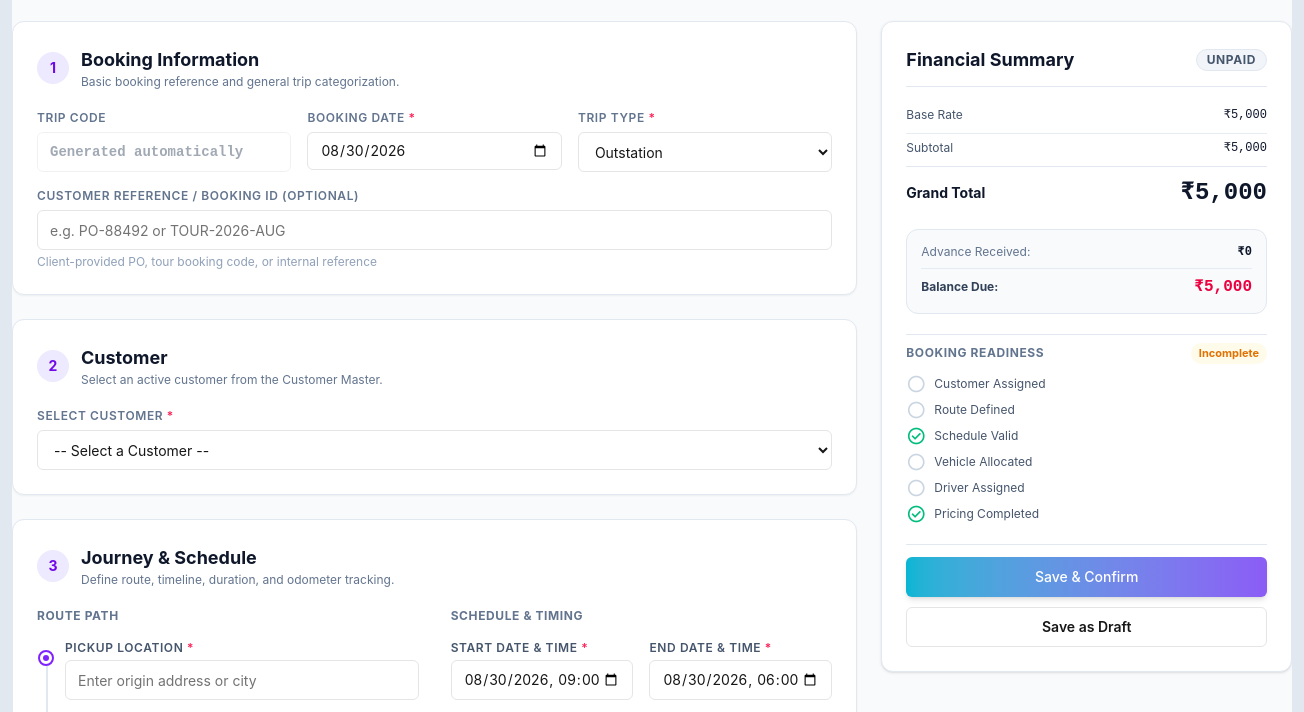
Test: TripForm Component › calculates duration and total km correctly
Replace the text in the field labelled "Start Date & Time *" with "2026-08-28T08:00" at (542, 680), box [451,660,634,700]
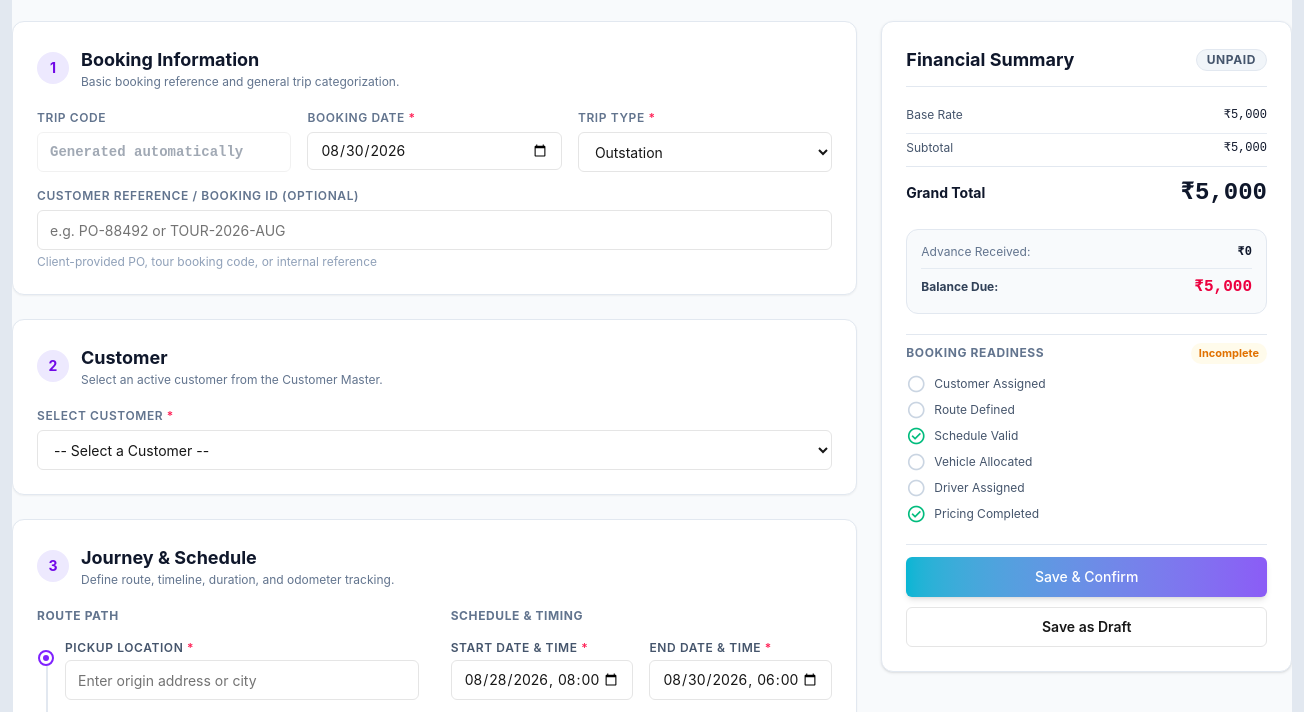
Replace the text in the field labelled "End Date & Time *" with "2026-08-28T18:00" at (741, 680), box [650,660,832,700]
(page scrolled)
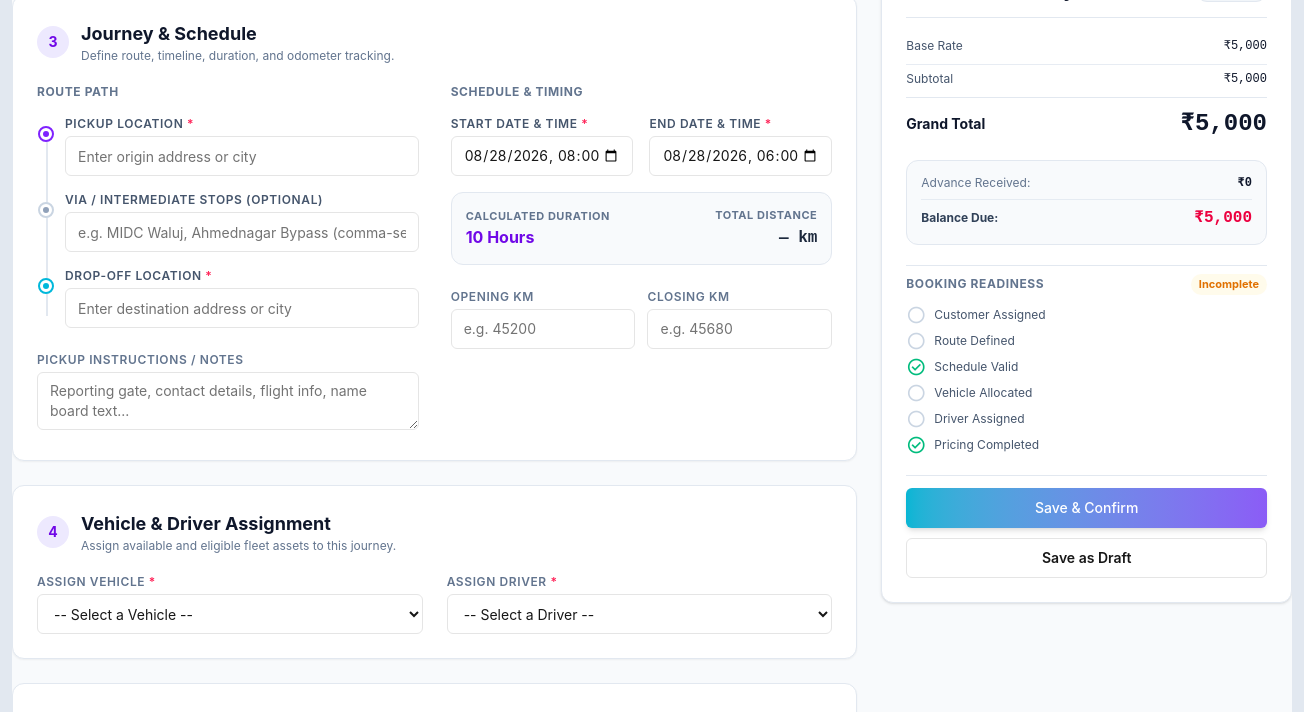
Result: the text "10 Hours" is shown at [466,226,534,246]
Type "45000" into the number field labelled "Opening KM" at (543, 328), box [451,308,636,348]
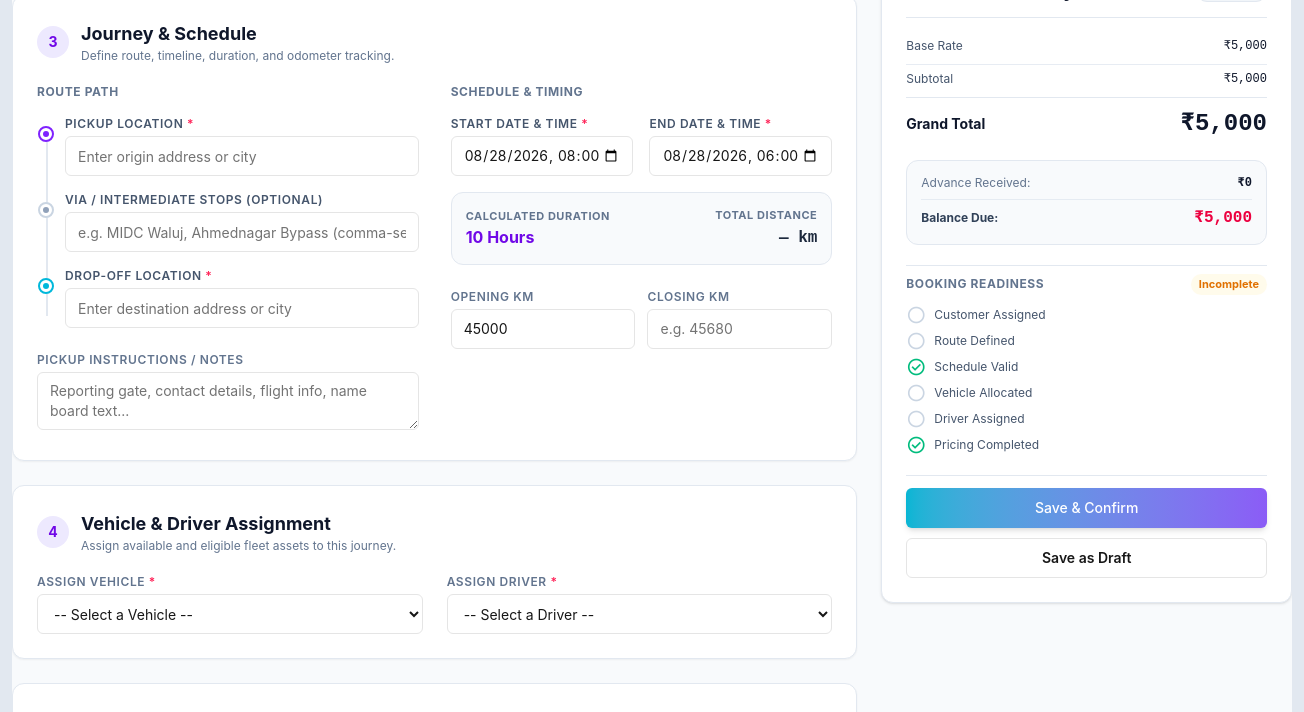
Type "45320" into the number field labelled "Closing KM" at (740, 328), box [648,308,832,348]
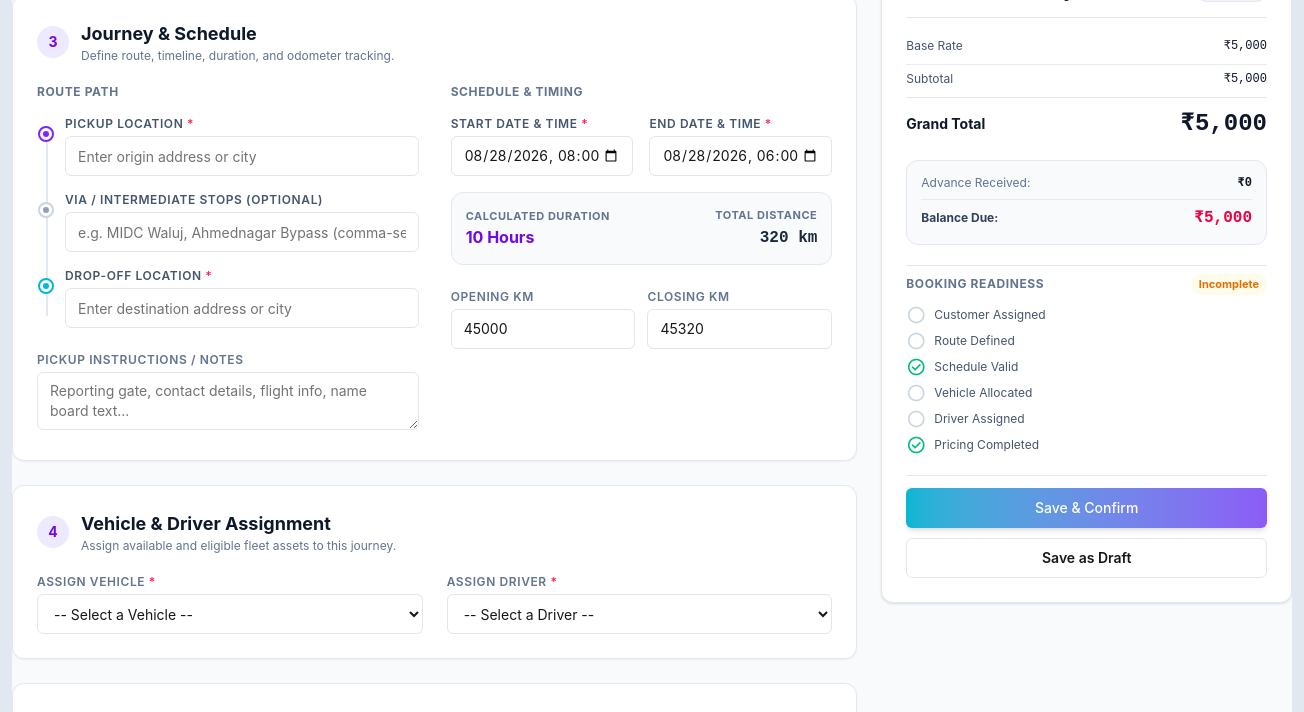
Result: the text "320 km" is shown at [760,228,817,246]
